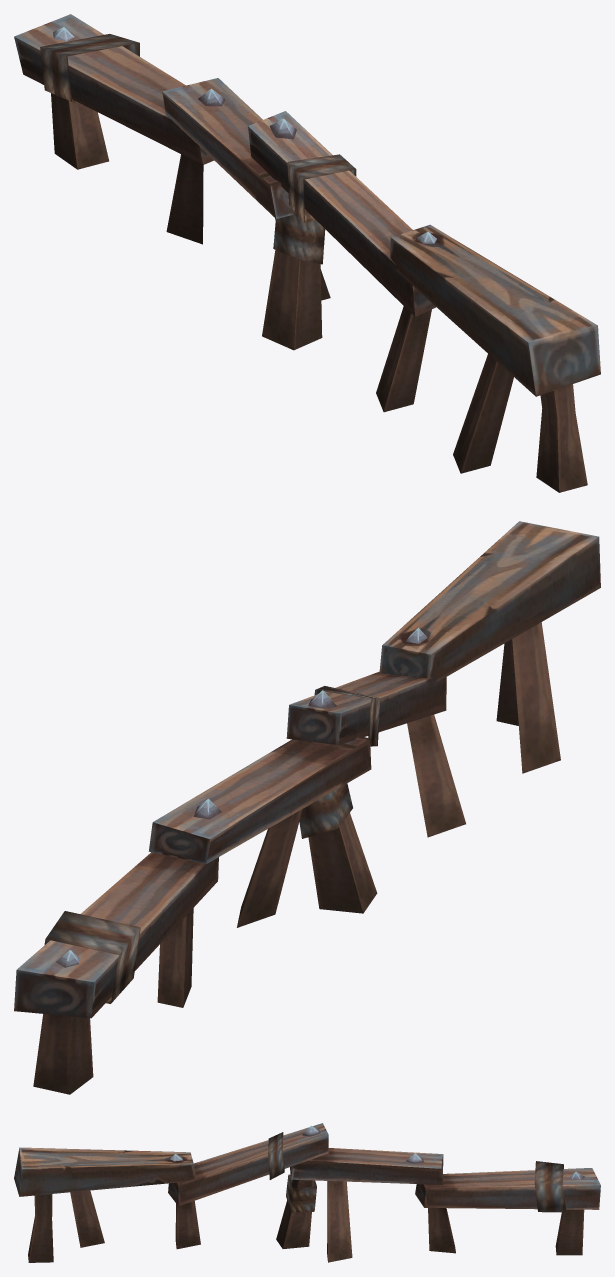
File: mine_railing03.fbx
The picture shows the model from 3 angles, top to bottom: view 1: azimuth 30°, elevation 25°; view 2: azimuth 150°, elevation 25°; view 3: azimuth 270°, elevation 25°; orthographic projection. The views are drawn at different scales.
Visible parts, largest first — view 1: 13_-_Default; view 2: 13_-_Default; view 3: 13_-_Default.
Boxes of the visible parts, box(x1,y1,x2,y2) form: 13_-_Default: box(14, 14, 600, 492); 13_-_Default: box(14, 521, 600, 1094); 13_-_Default: box(14, 1123, 600, 1262).
Size of the model in its own units: 0.8773 by 1.77 by 7.87.
